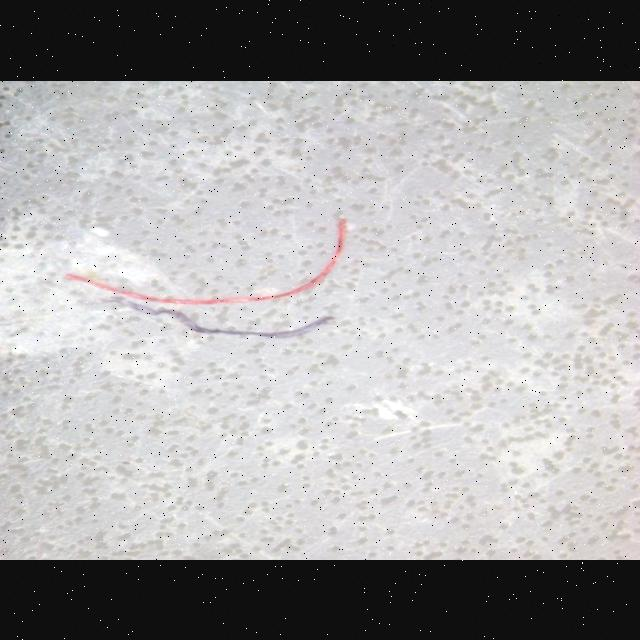Fibre: (64, 216, 350, 340)
